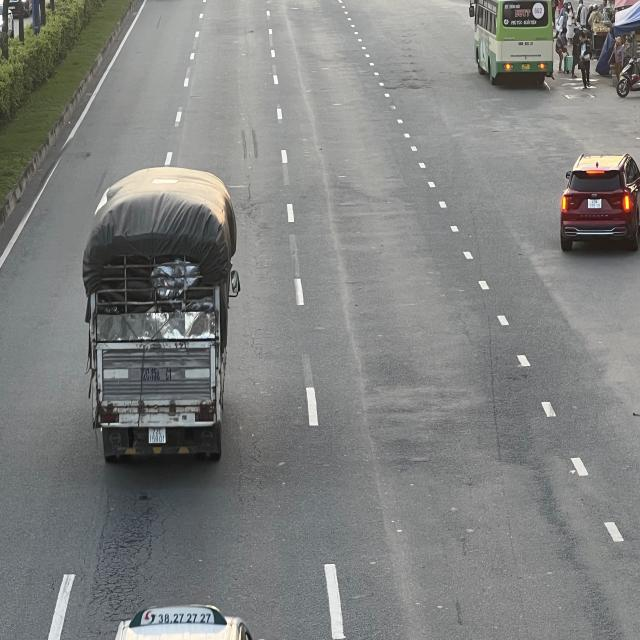car: (556, 155, 638, 255)
coach: (468, 0, 554, 82)
truck: (82, 162, 238, 463)
